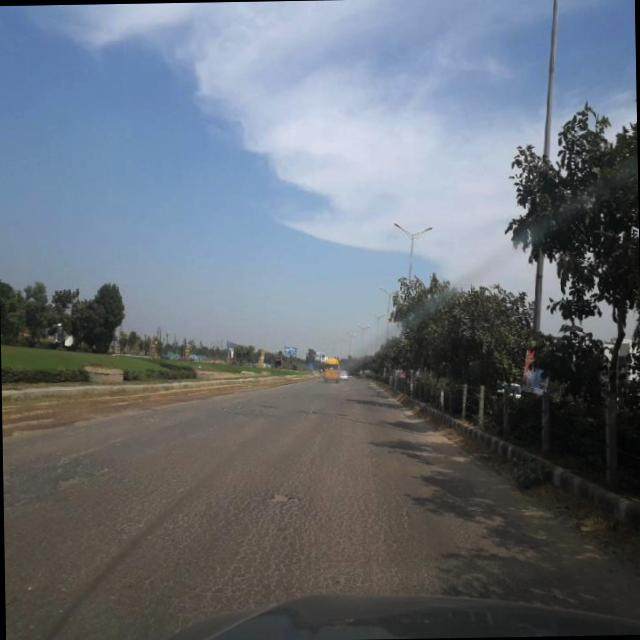crack: (9, 419, 440, 597)
pothole: (256, 482, 304, 507), (52, 468, 99, 492)
